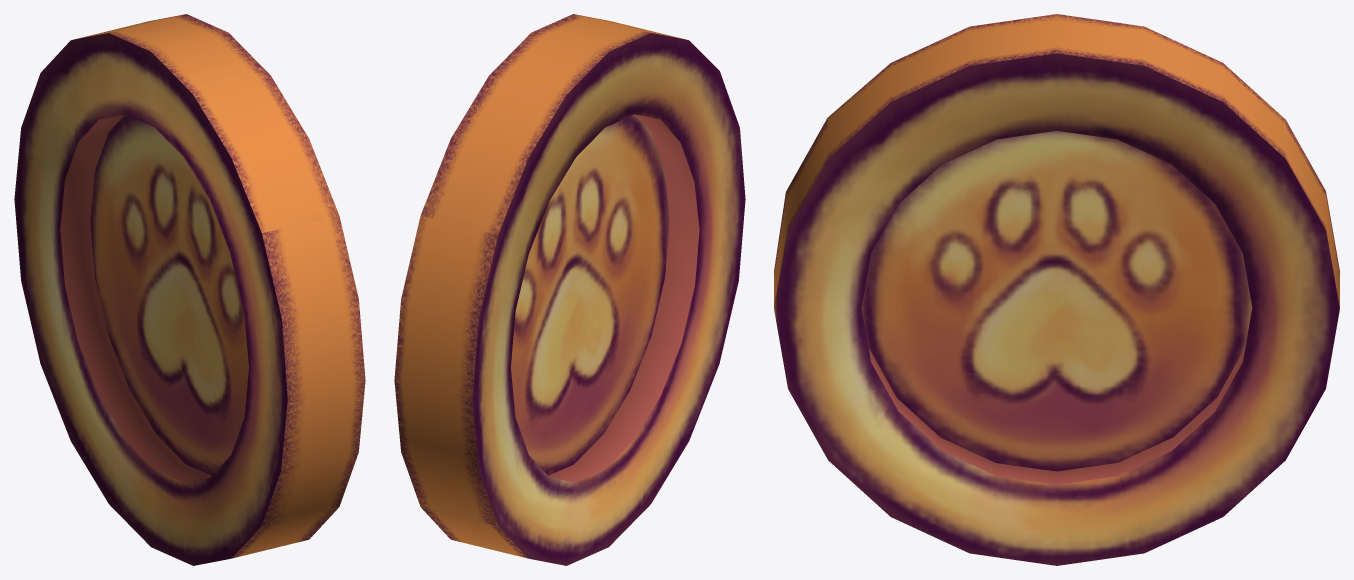
Rendered from pawtoken.fbx.
3 views of the same model, side by side, from view 1: azimuth 30°, elevation 25°; view 2: azimuth 150°, elevation 25°; view 3: azimuth 270°, elevation 25° (orthographic). The views are drawn at different scales.
Visible parts, largest first — view 1: polySurface2; view 2: polySurface2; view 3: polySurface2.
Part boxes in pixels (x1,y1,x2,y2): polySurface2: [14, 14, 365, 565]; polySurface2: [394, 14, 745, 565]; polySurface2: [774, 14, 1339, 565].
Size of the model in its own units: 14.37 by 87.37 by 87.37.
Materials: 1 (1 with a texture image).
